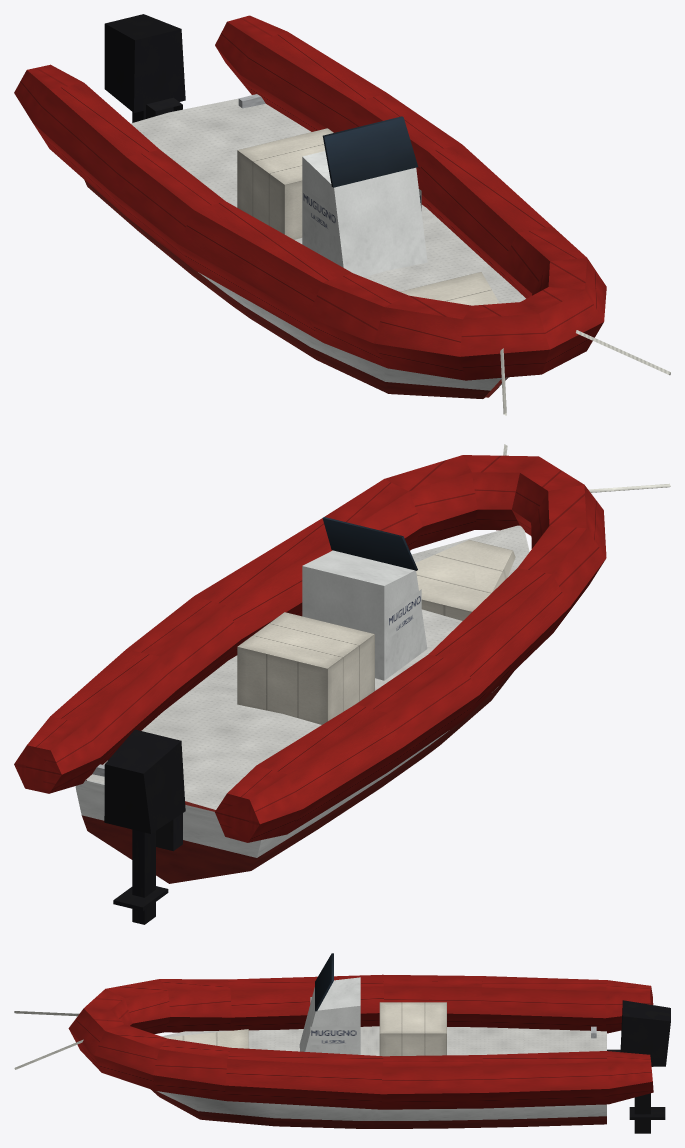
File: SM_Morin_Barca_Gommone_Rosso_Prua_LOD1.fbx
The picture shows the model from 3 angles, top to bottom: view 1: azimuth 30°, elevation 25°; view 2: azimuth 150°, elevation 25°; view 3: azimuth 270°, elevation 25°; orthographic projection. The views are drawn at different scales.
Parts seen in each view (by area): view 1: SM_Morin_Barca_Gommone_Rosso_Prua_LOD1; view 2: SM_Morin_Barca_Gommone_Rosso_Prua_LOD1; view 3: SM_Morin_Barca_Gommone_Rosso_Prua_LOD1.
Boxes of the visible parts, x1,y1,x2,y2 form: SM_Morin_Barca_Gommone_Rosso_Prua_LOD1: (14, 14, 670, 415); SM_Morin_Barca_Gommone_Rosso_Prua_LOD1: (14, 444, 670, 924); SM_Morin_Barca_Gommone_Rosso_Prua_LOD1: (14, 953, 670, 1133).
Bounding box in the file's own units: 220 × 587 × 162.
Materials: 1 (1 with a texture image).
